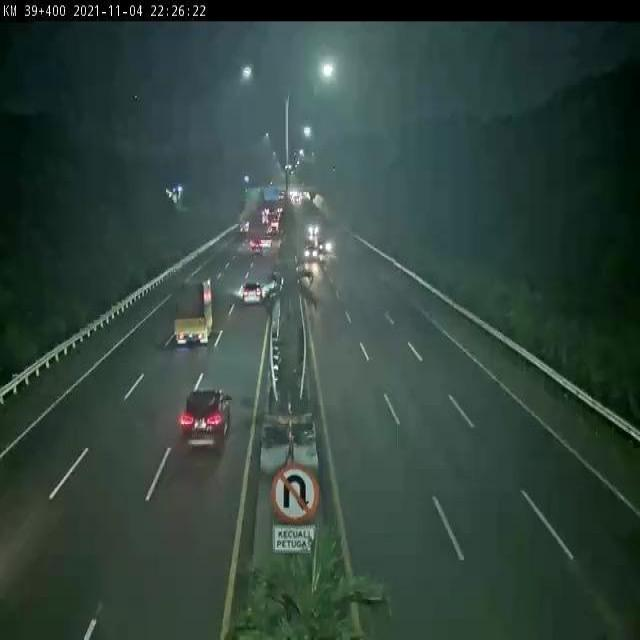car: (182, 389, 230, 448), (243, 283, 262, 301), (303, 242, 319, 262), (318, 239, 332, 256), (251, 240, 263, 253), (261, 236, 273, 248)
truck-m-: (174, 279, 212, 344)
